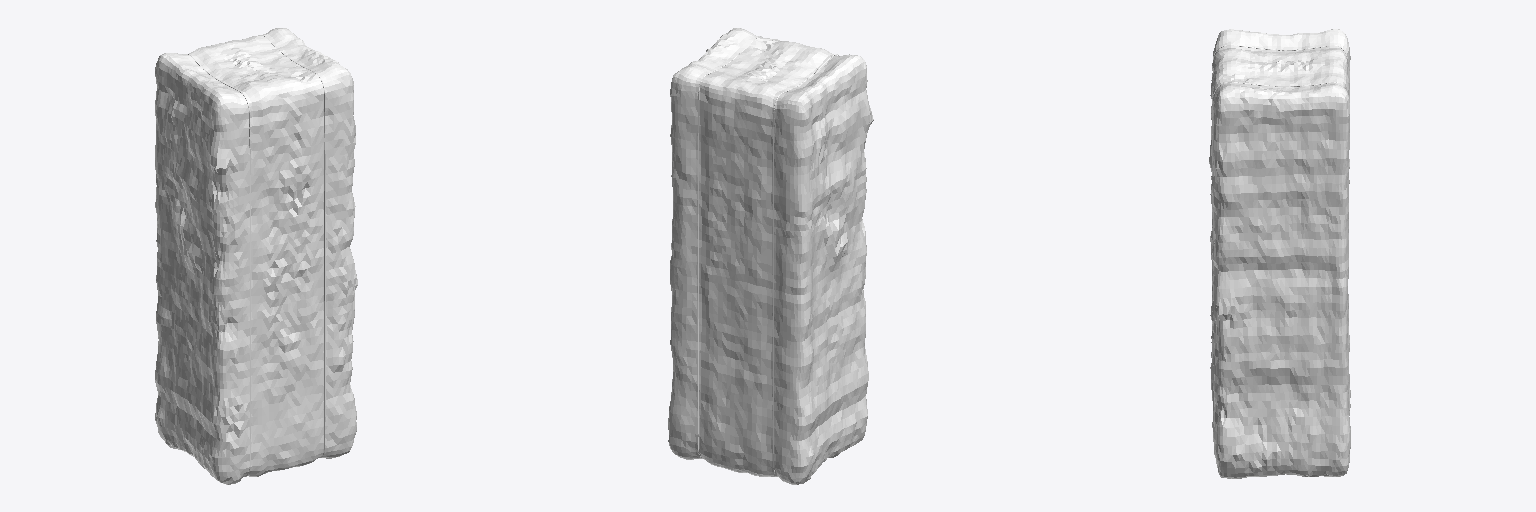
Rendered from wall3.obj.
The picture shows the model from 3 angles: view 1: azimuth 30°, elevation 25°; view 2: azimuth 150°, elevation 25°; view 3: azimuth 270°, elevation 25°; orthographic projection.
Visible parts, largest first — view 1: 11543_BundleOfStraw_V2_l1.006; view 2: 11543_BundleOfStraw_V2_l1.006; view 3: 11543_BundleOfStraw_V2_l1.006.
Part boxes in pixels (x1,y1,x2,y2): 11543_BundleOfStraw_V2_l1.006: (155,28,357,484); 11543_BundleOfStraw_V2_l1.006: (668,28,873,484); 11543_BundleOfStraw_V2_l1.006: (1209,29,1350,478).
Bounding box in the file's own units: 6.87 × 17.45 × 5.74.